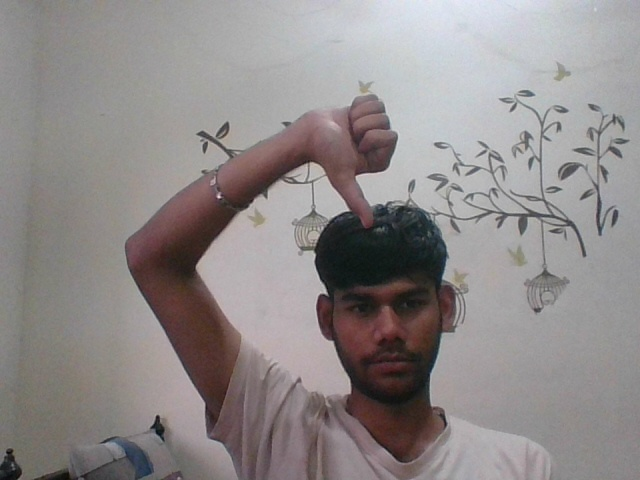No: (307, 87, 407, 233)
